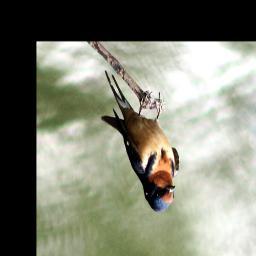Swallow: (104, 69, 182, 213)
